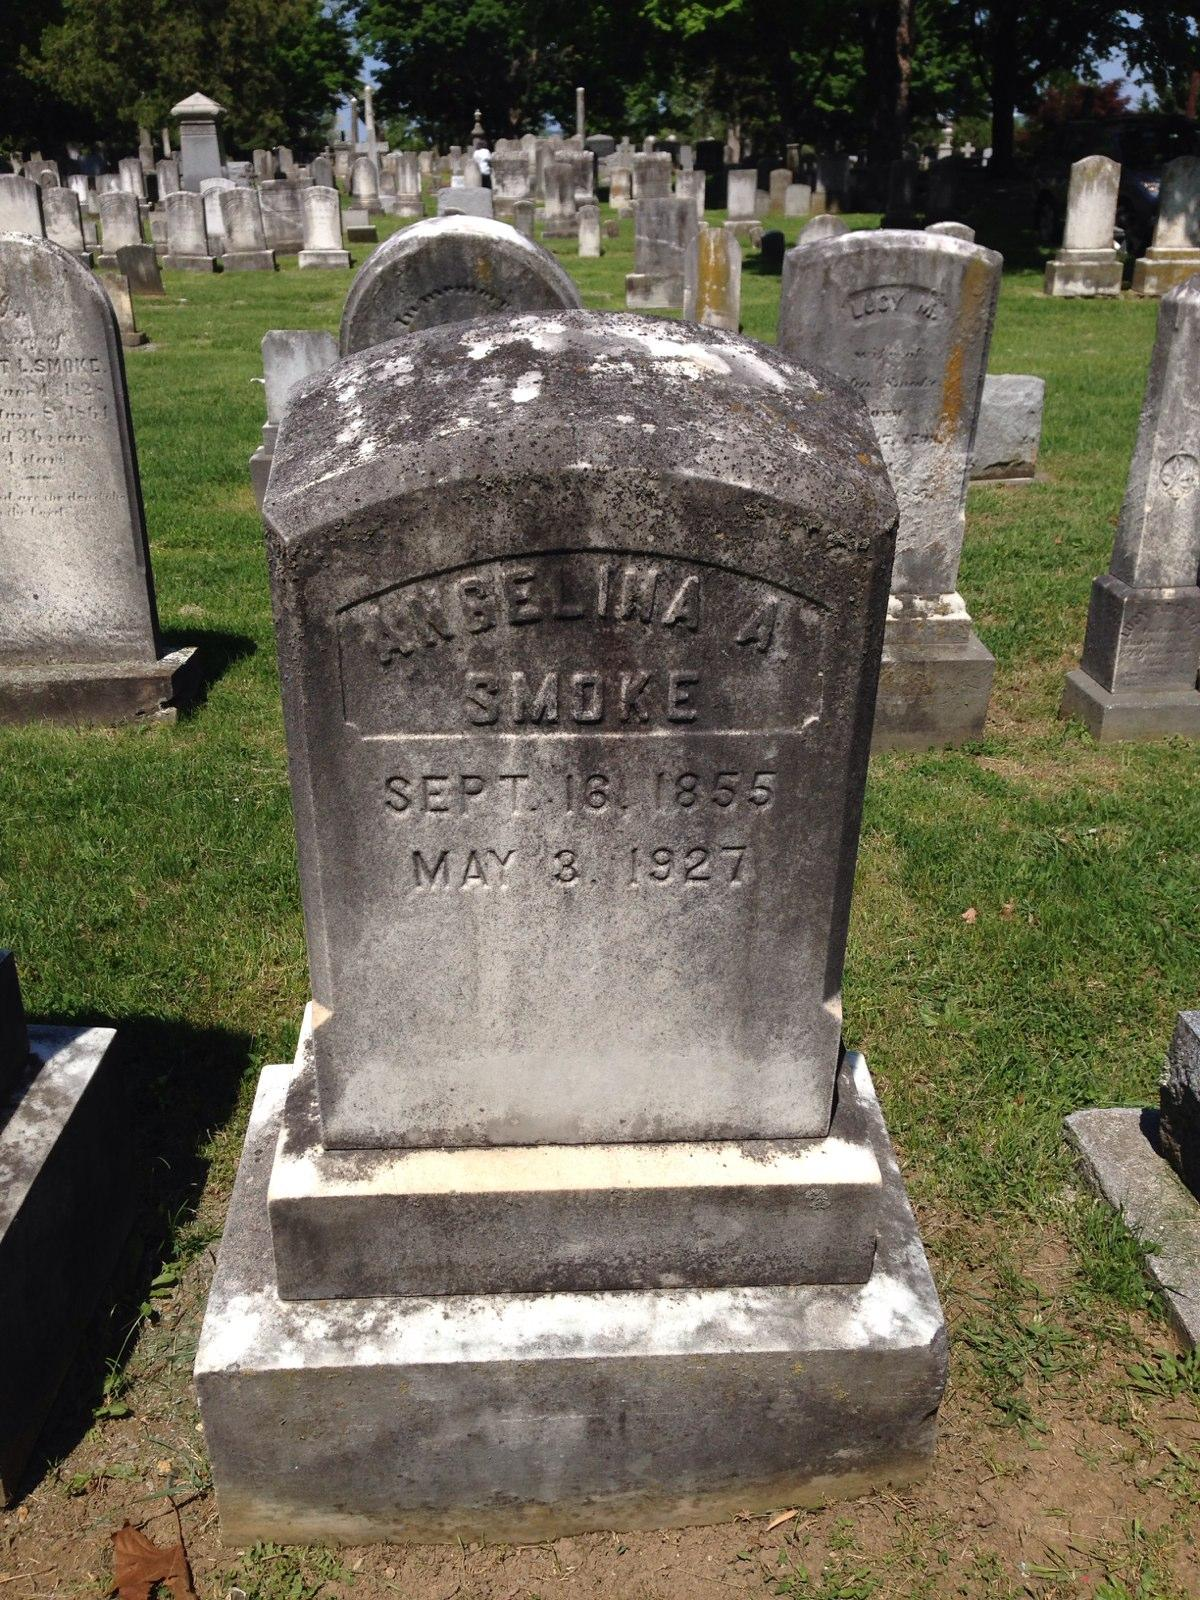upright: (192, 314, 952, 1506)
